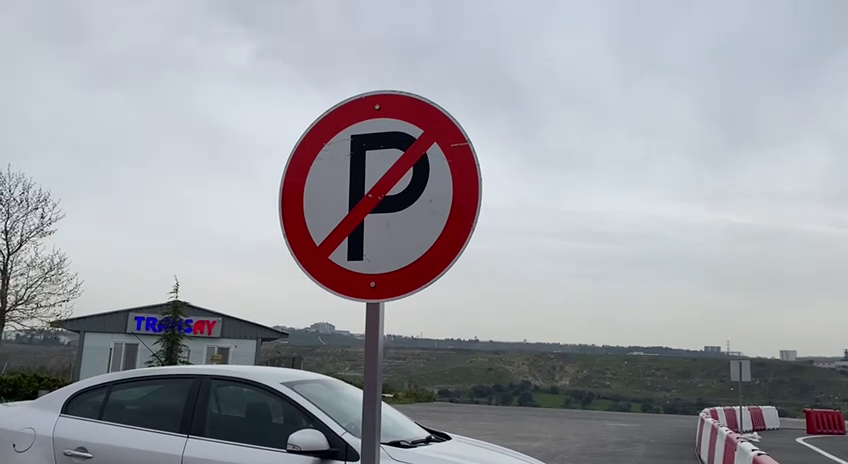noparking: (272, 87, 485, 306)
